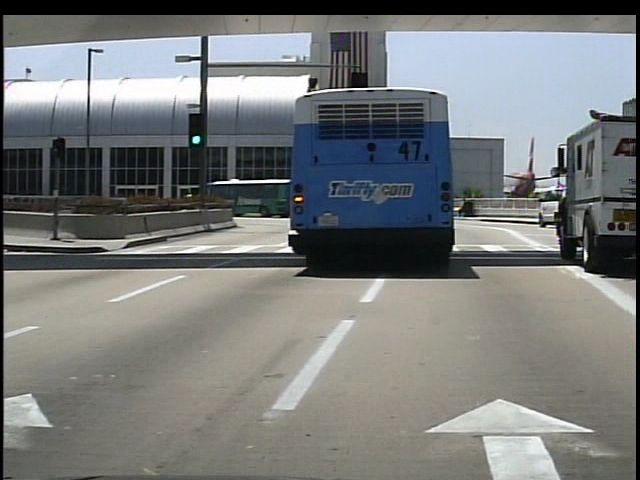strada: (42, 229, 637, 479)
